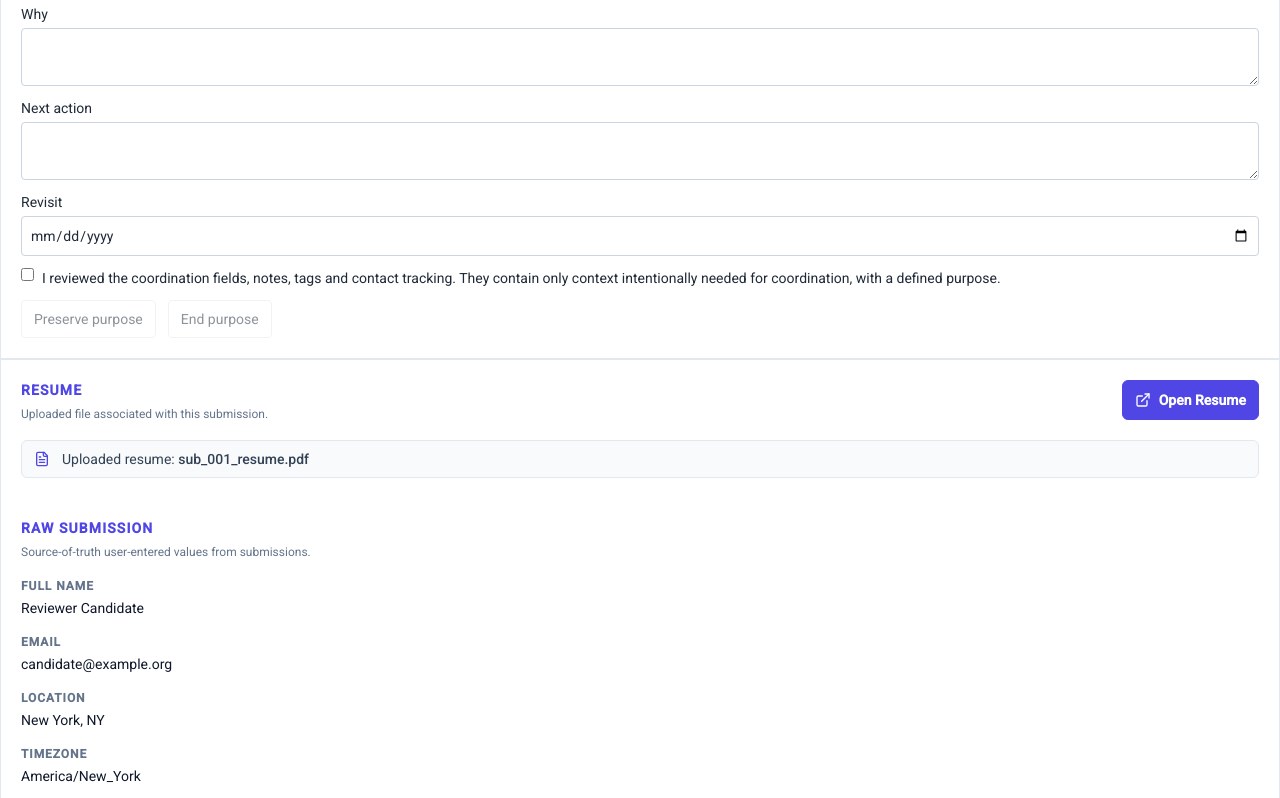
Test case: InboxDetailPanel resume access › surfaces backend resume access errors without hiding the dashboard
(page scrolled)
Click the button "Open Resume": (1190, 400) [1122,380,1259,420]
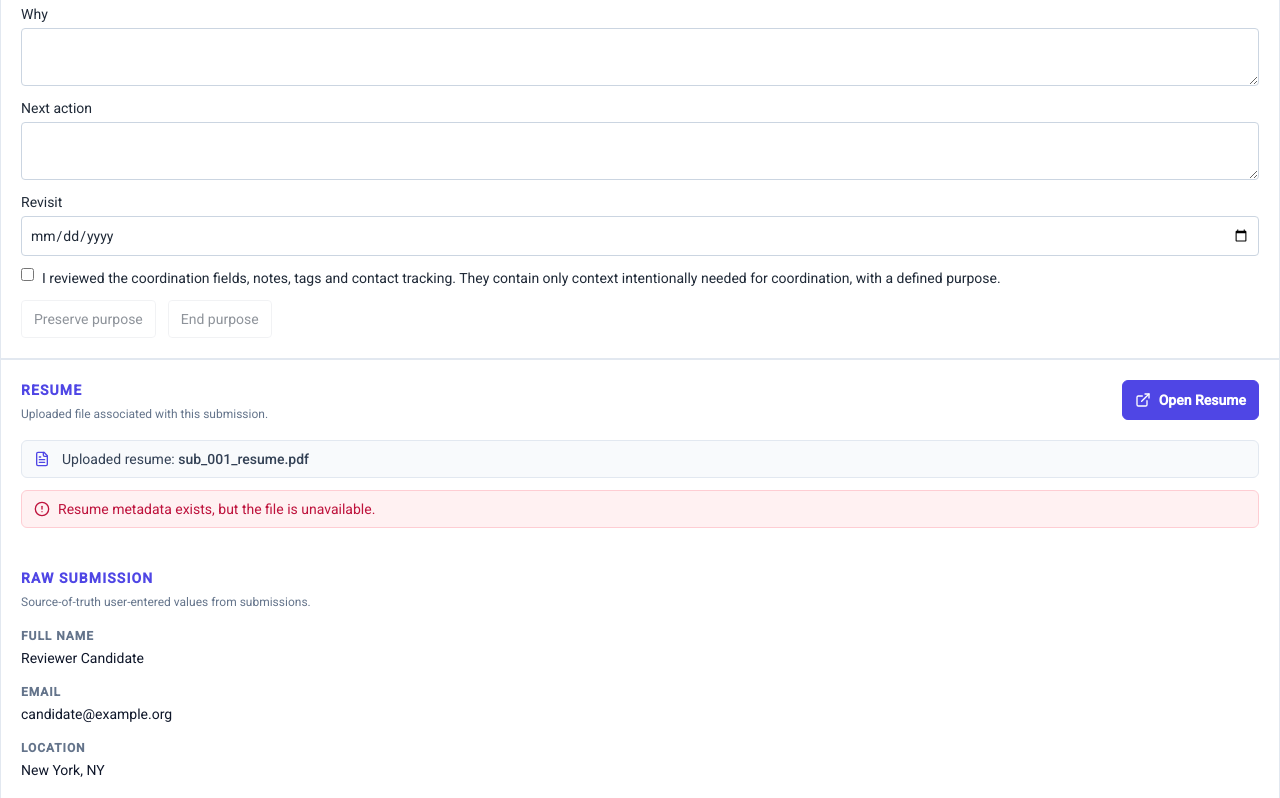
Result: the text "Resume metadata exists, but the file is unavailable." is shown at [21,490,1259,528]
